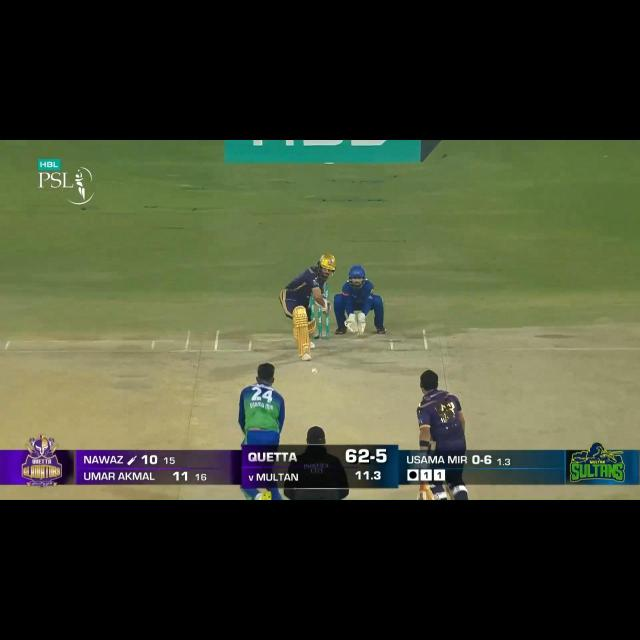bat: (322, 302, 329, 313)
